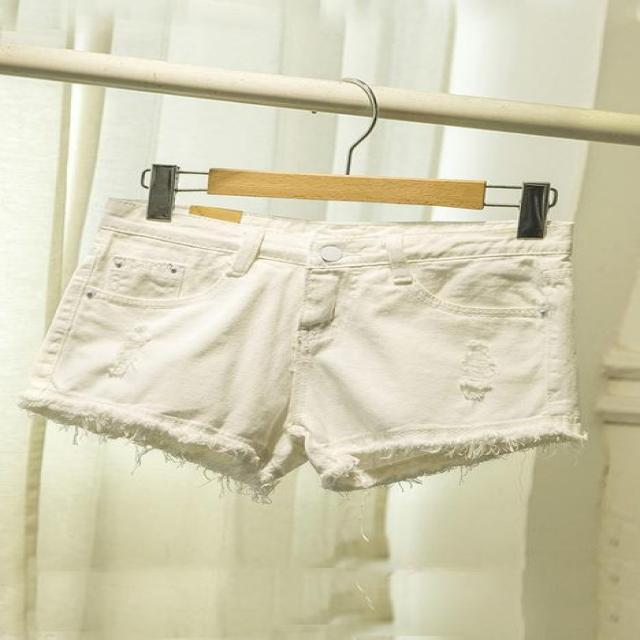shorts: (19, 201, 580, 493)
